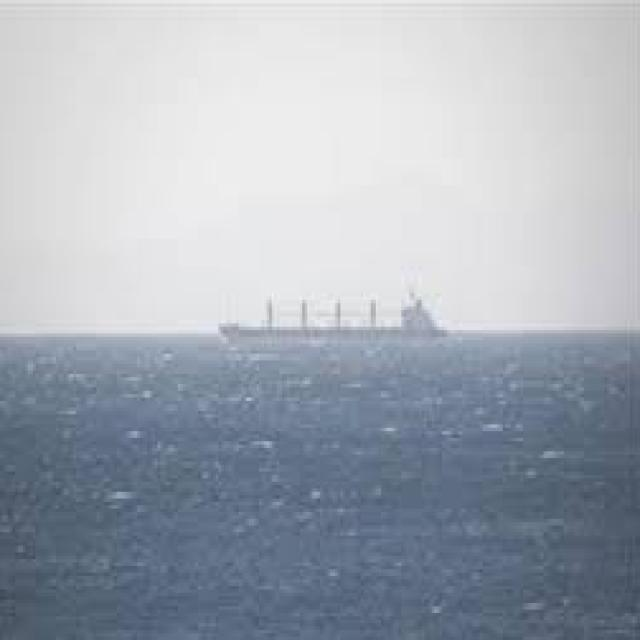cargoship: (214, 281, 448, 348)
